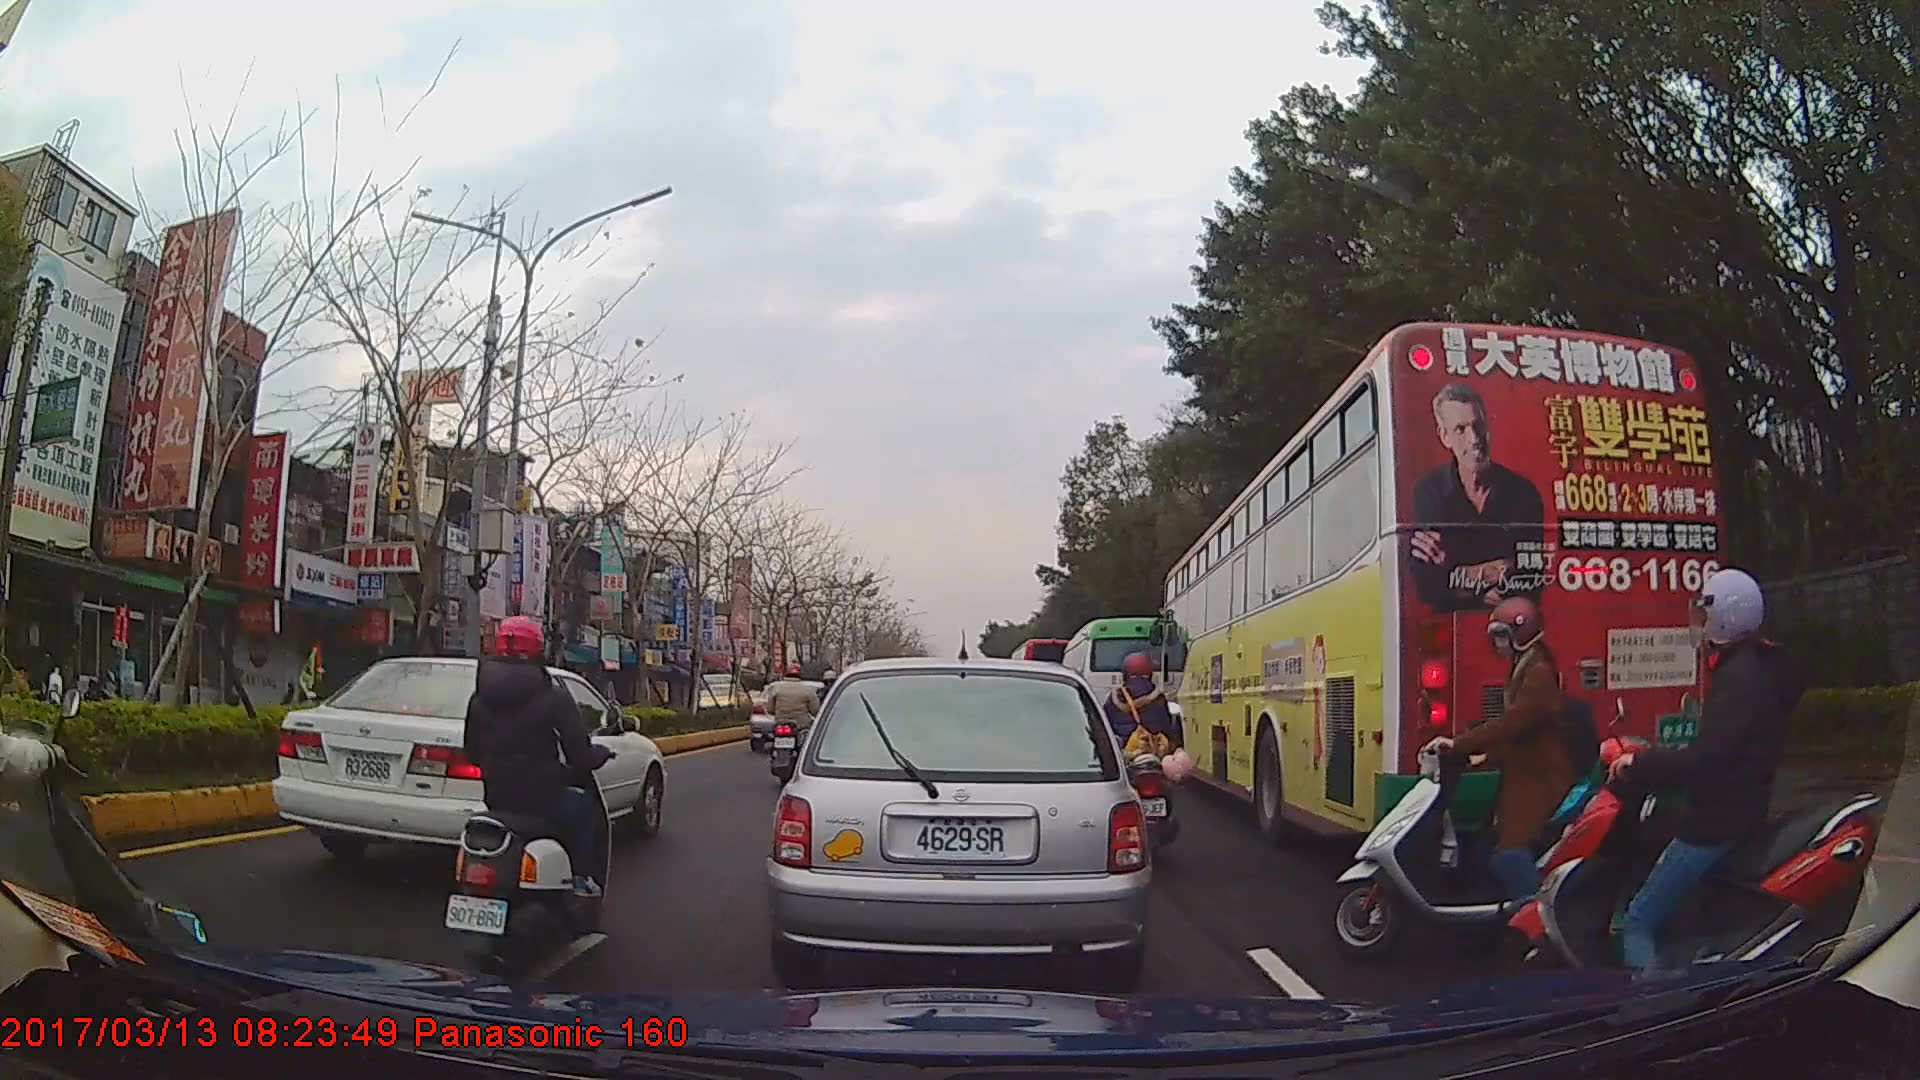rider: (1503, 569, 1875, 1032), (1323, 594, 1682, 970), (443, 615, 613, 982), (1095, 653, 1192, 850), (770, 661, 822, 788), (305, 665, 336, 704)
vehicle: (1159, 319, 1729, 846), (765, 654, 1153, 981), (266, 653, 665, 867), (1057, 616, 1182, 759), (691, 680, 748, 716)
